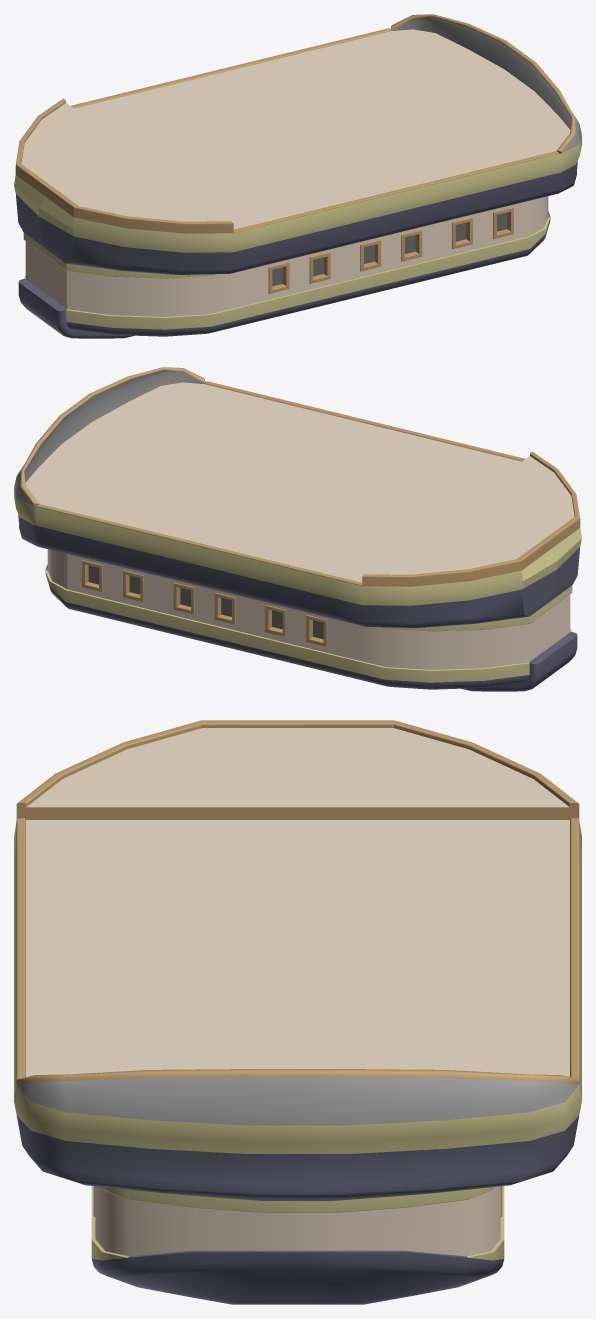
Rendered from Anvil_Body.fbx.
3 views of the same model, one above another, from view 1: azimuth 30°, elevation 25°; view 2: azimuth 150°, elevation 25°; view 3: azimuth 270°, elevation 25° (orthographic). The views are drawn at different scales.
Parts seen in each view (by area): view 1: Ship1_Anvil_Body; view 2: Ship1_Anvil_Body; view 3: Ship1_Anvil_Body.
Part boxes in pixels (x1=…): Ship1_Anvil_Body: x1=14, y1=14, x2=581, y2=338; Ship1_Anvil_Body: x1=14, y1=367, x2=581, y2=691; Ship1_Anvil_Body: x1=14, y1=720, x2=581, y2=1304.
Bounding box in the file's own units: 996 × 335 × 606.
